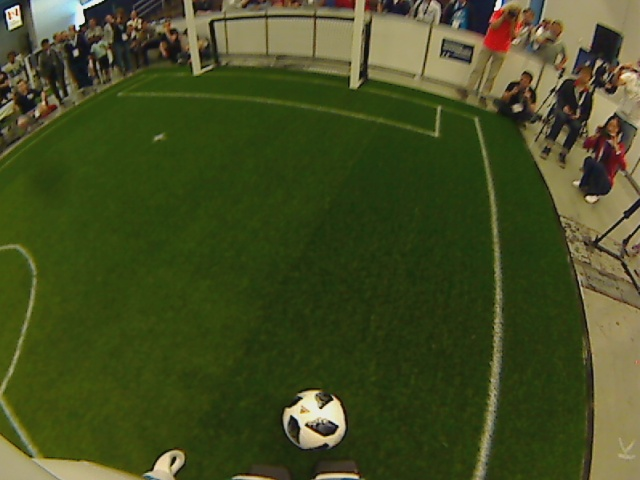ball: (280, 388, 348, 452)
